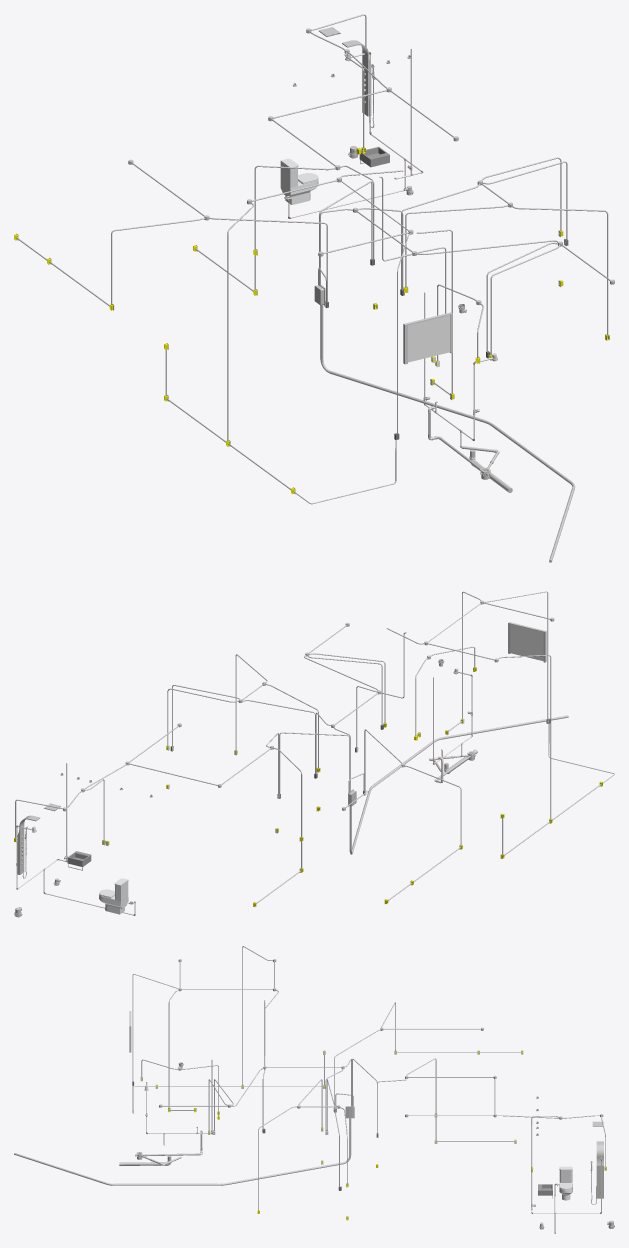
File: hidrossanitario+eletrico larissa-compressed.glb
The picture shows the model from 3 angles, top to bottom: view 1: azimuth 30°, elevation 25°; view 2: azimuth 150°, elevation 25°; view 3: azimuth 270°, elevation 25°; orthographic projection. The views are drawn at different scales.
Bounding box in the file's own units: 8.72 × 4.89 × 16.49.
